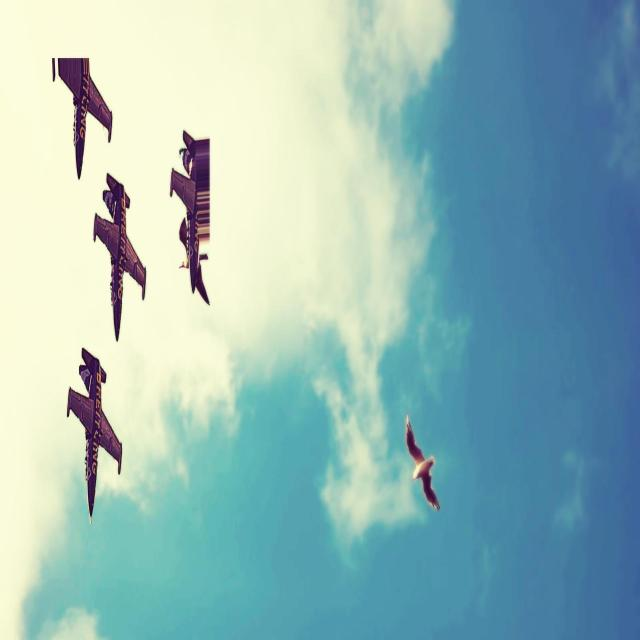airplane: (66, 346, 122, 524), (93, 172, 146, 341), (51, 56, 113, 180), (170, 129, 210, 306)
